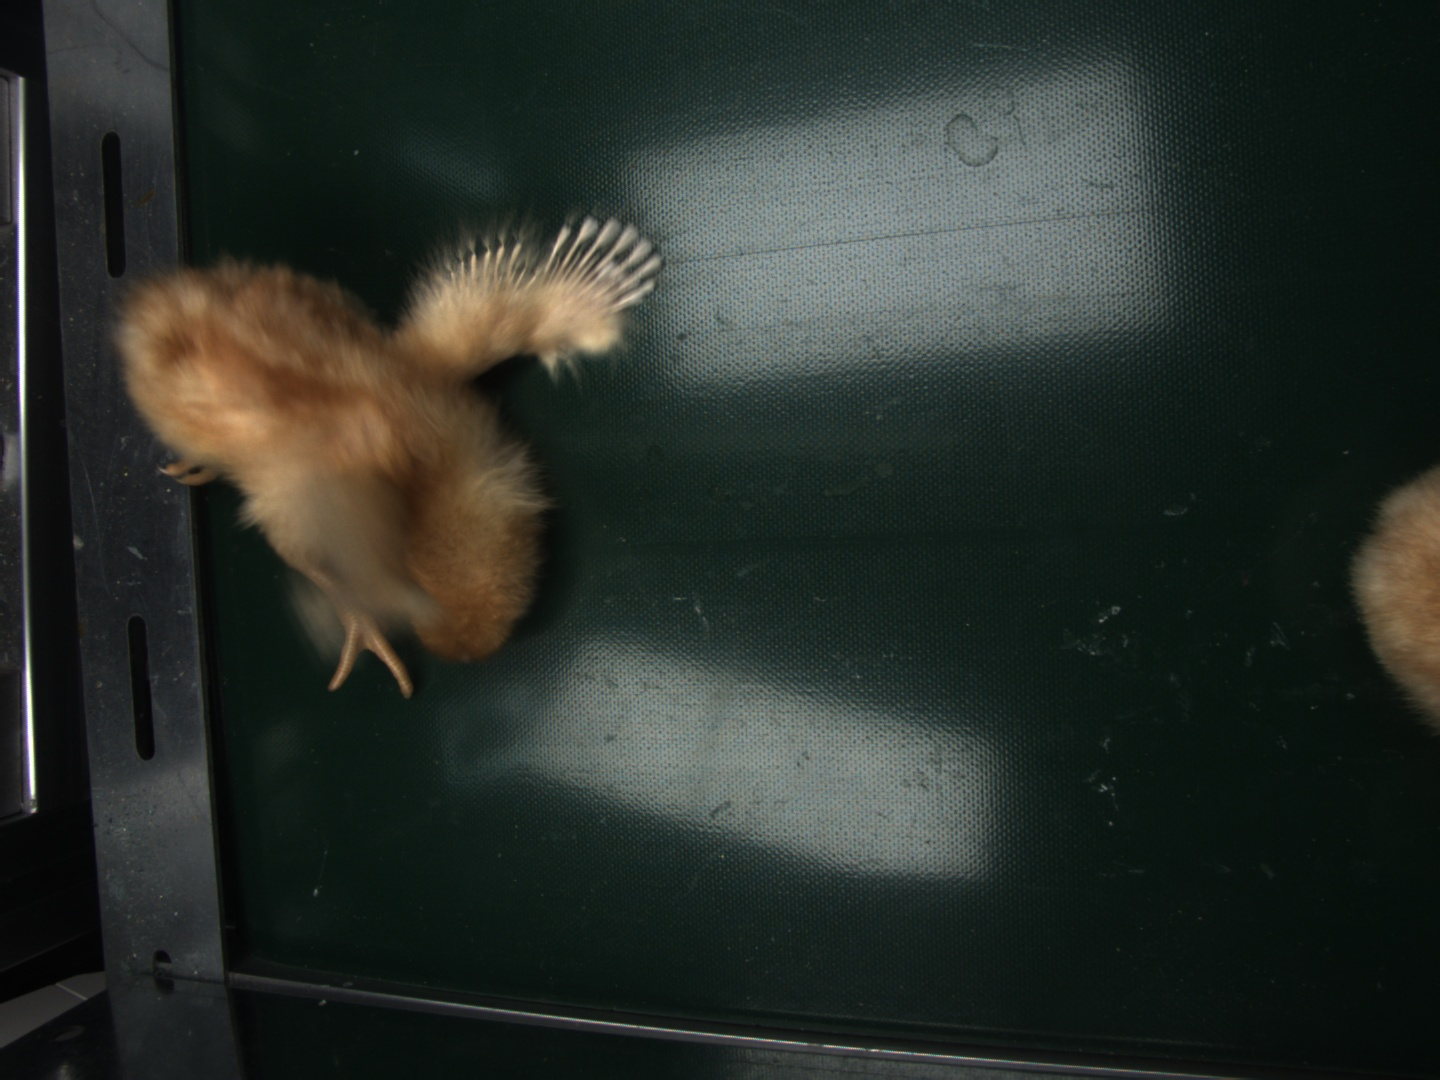female: (547, 216, 668, 306)
